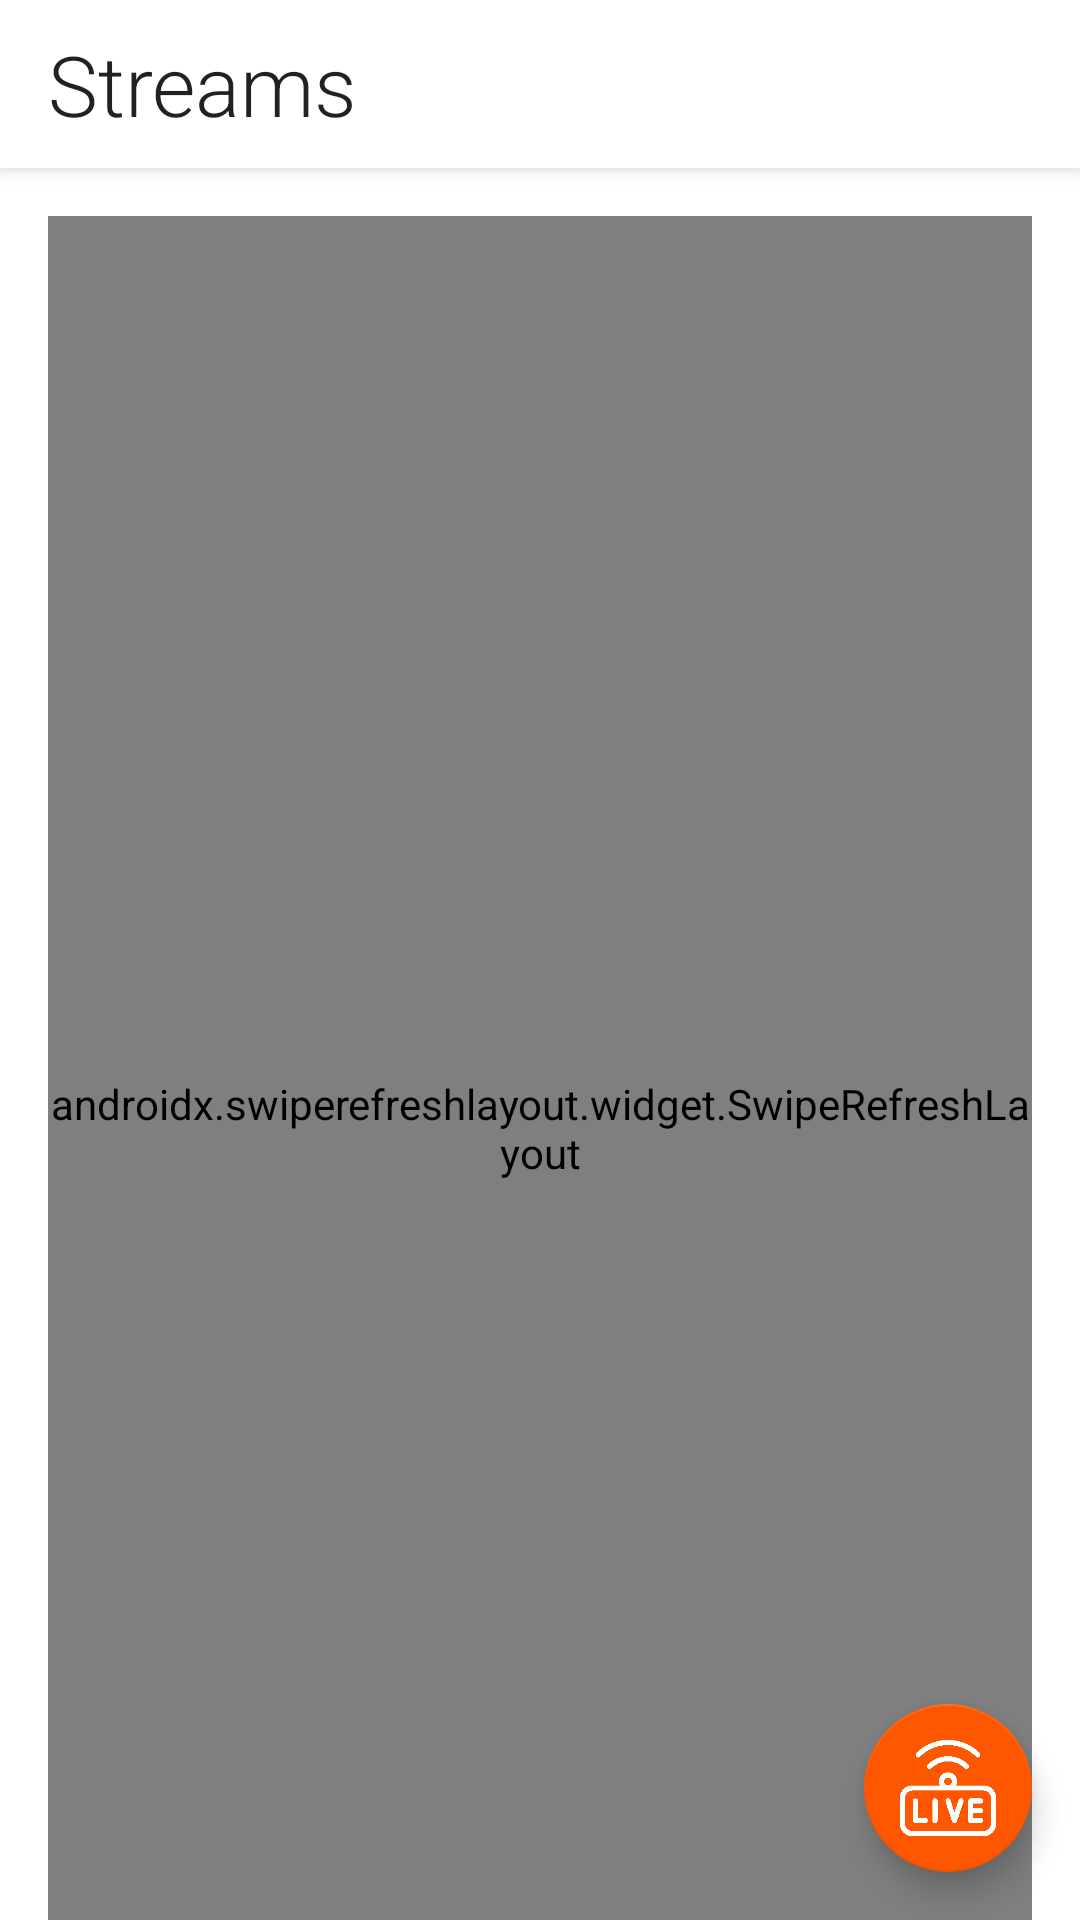

Icon click points for this 1080w x 1920h phone screenshot, format (x=x, y=y):
Create broadcast: (x=948, y=1788)
